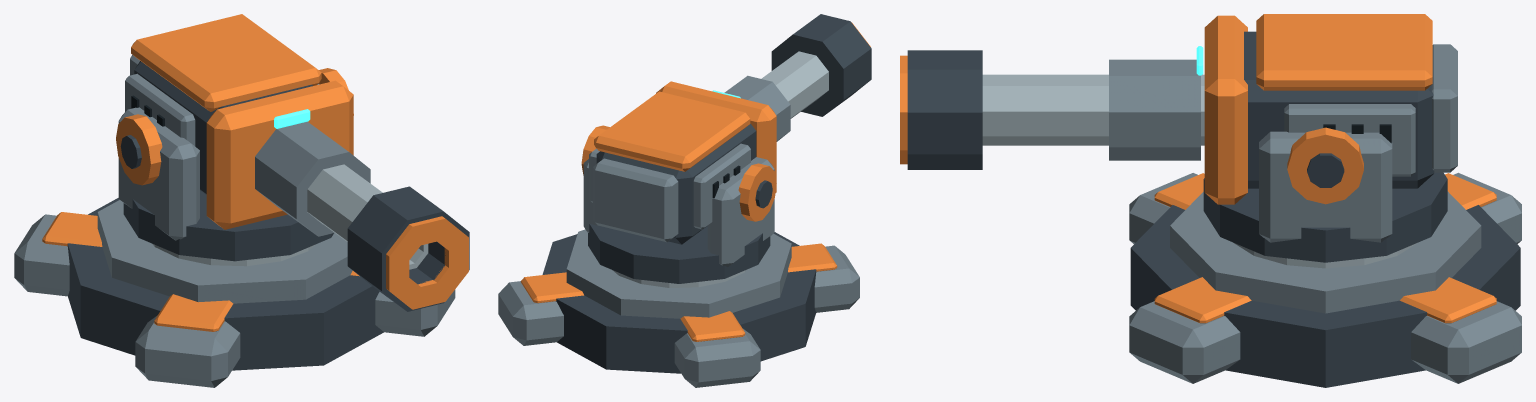
Rendered from Turret.glb.
The picture shows the model from 3 angles, left to right: view 1: azimuth 30°, elevation 25°; view 2: azimuth 150°, elevation 25°; view 3: azimuth 270°, elevation 25°; orthographic projection. The views are drawn at different scales.
Visible parts, largest first — view 1: TurretBarrel, TurretBase, TurretYaw; view 2: TurretBase, TurretBarrel, TurretYaw; view 3: TurretBarrel, TurretBase, TurretYaw.
Boxes of the visible parts, x1,y1,x2,y2 form: TurretBarrel: (125,14,469,311); TurretBase: (14,198,455,387); TurretYaw: (116,68,353,261); TurretBase: (498,229,859,387); TurretBarrel: (589,14,871,244); TurretYaw: (581,125,776,283); TurretBarrel: (900,14,1457,204); TurretBase: (1129,172,1521,387); TurretYaw: (1203,127,1447,262).
Bounding box in the file's own units: 2.09 × 1.55 × 3.32.
